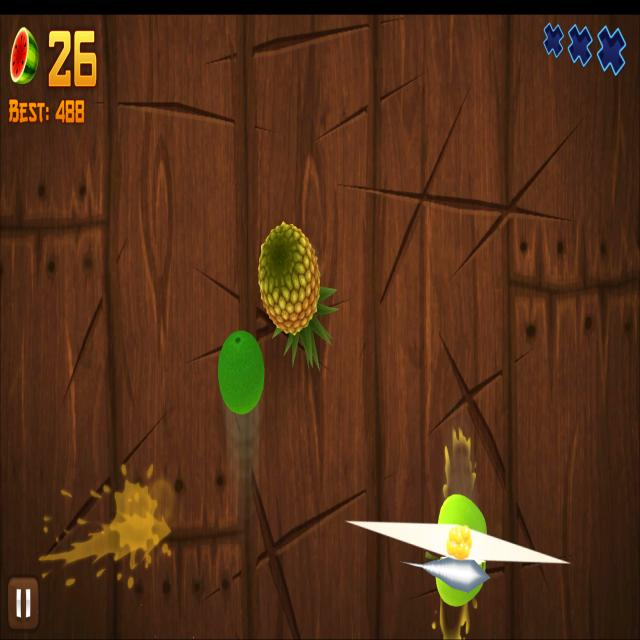fruit: (257, 222, 321, 336), (437, 494, 487, 606), (217, 330, 265, 415)
